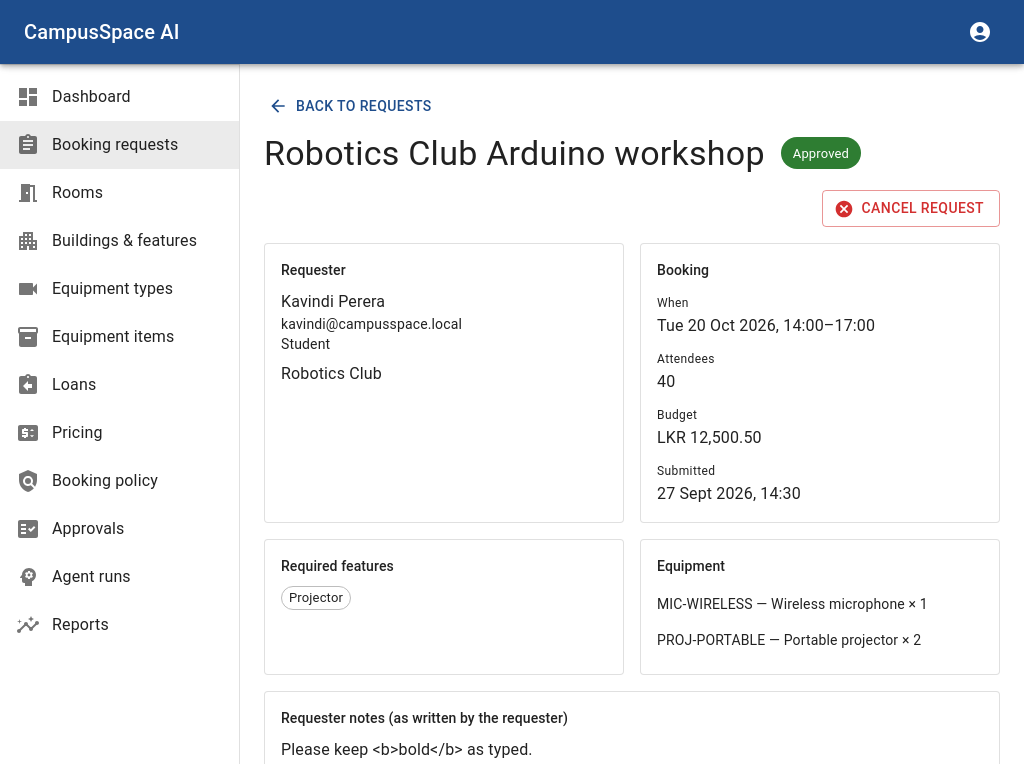
Scenario: BookingRequestDetailPage › cancellation › shows a 409 title exactly as sent
The image size is (1024, 764).
Click the button "Cancel request" at point(911, 209), box [822,190,1000,227]
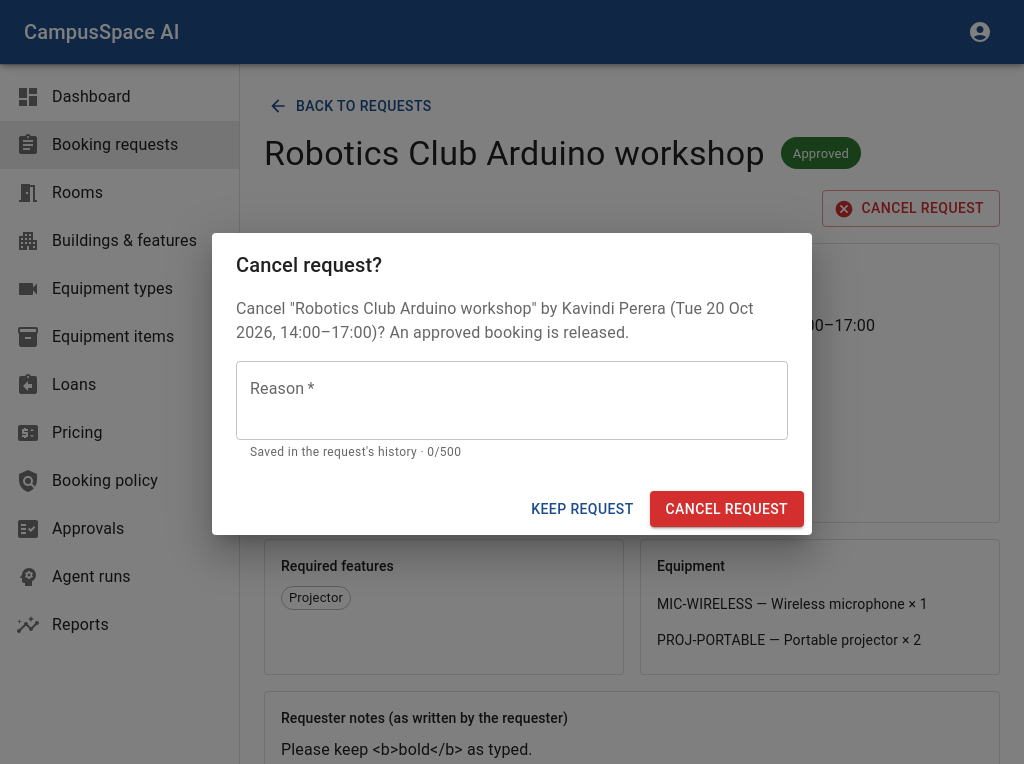
Type "Exam scheduled" into the text box labelled "Reason *" at point(512, 400), box [250,377,774,423]
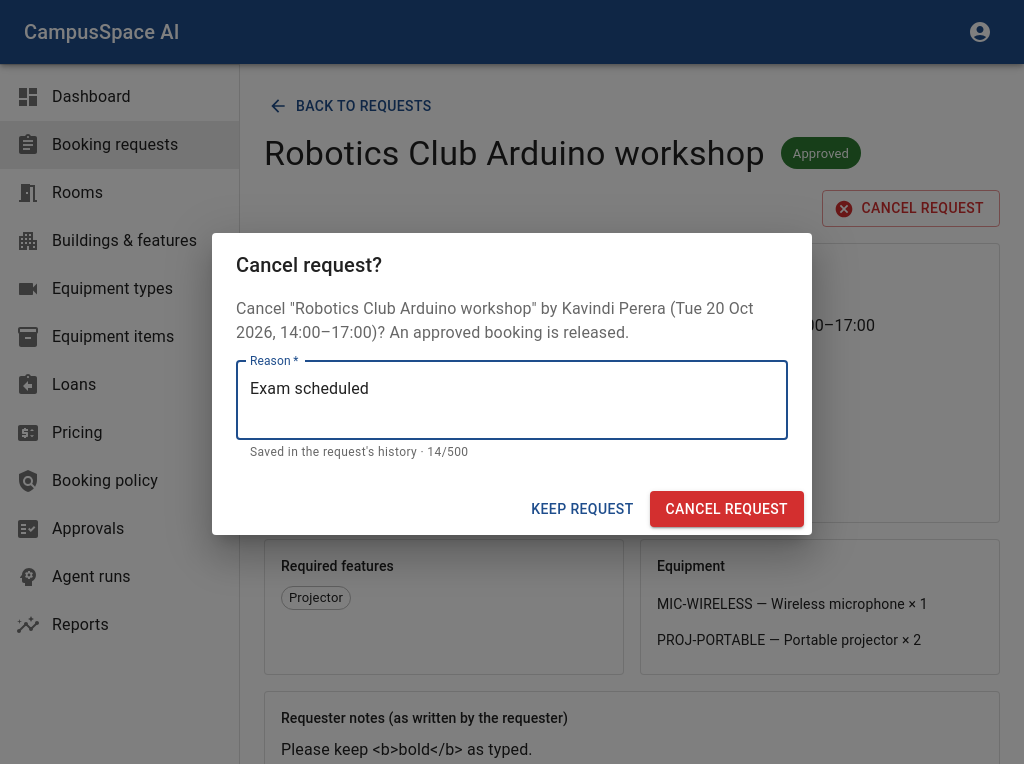
Click the button "Cancel request" at point(727, 509), box [650,491,804,527]
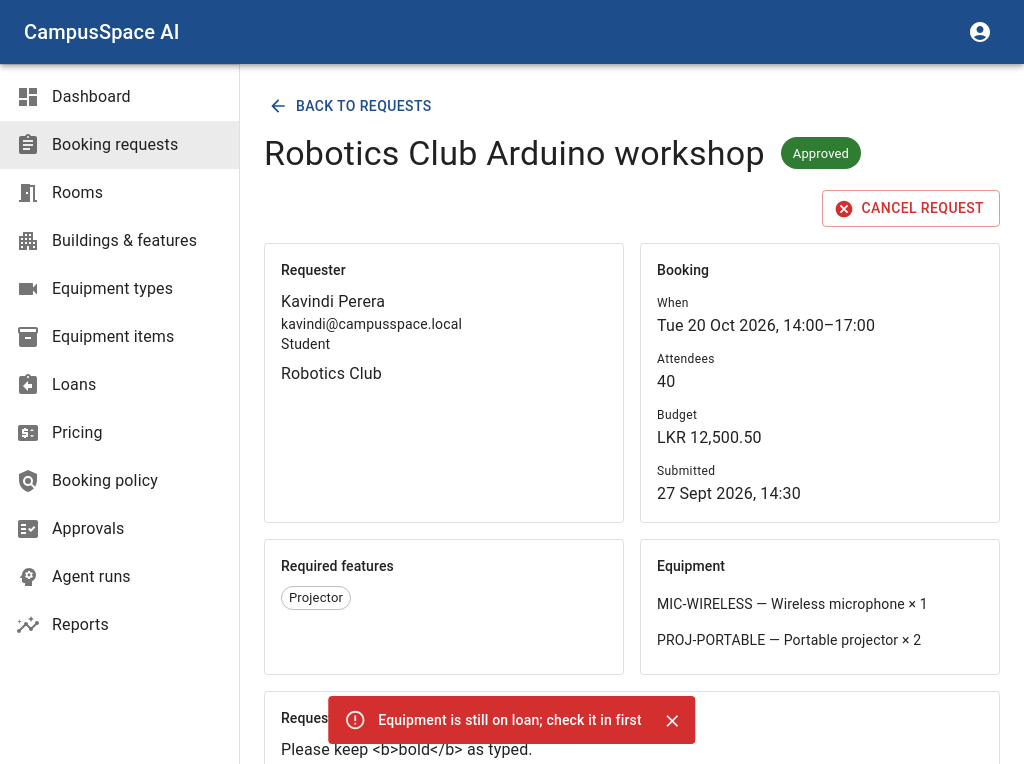
Check: the dialog is gone
